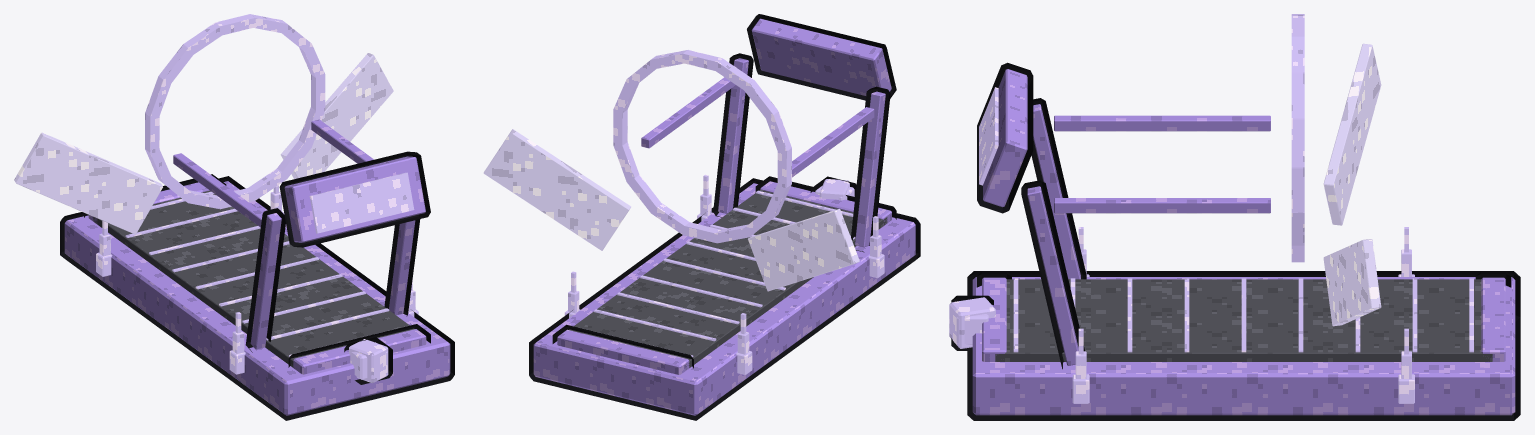
File: treadmill_13.glb
The picture shows the model from 3 angles, left to right: view 1: azimuth 30°, elevation 25°; view 2: azimuth 150°, elevation 25°; view 3: azimuth 270°, elevation 25°; orthographic projection. The views are drawn at different scales.
Parts seen in each view (by area): view 1: model; view 2: model; view 3: model.
Part boxes in pixels (x1,y1,x2,y2): model: [14, 14, 454, 420]; model: [483, 14, 920, 420]; model: [949, 14, 1520, 420].
Bounding box in the file's own units: 2.74 × 1.96 × 2.94.
Materials: 5 (4 with a texture image).
